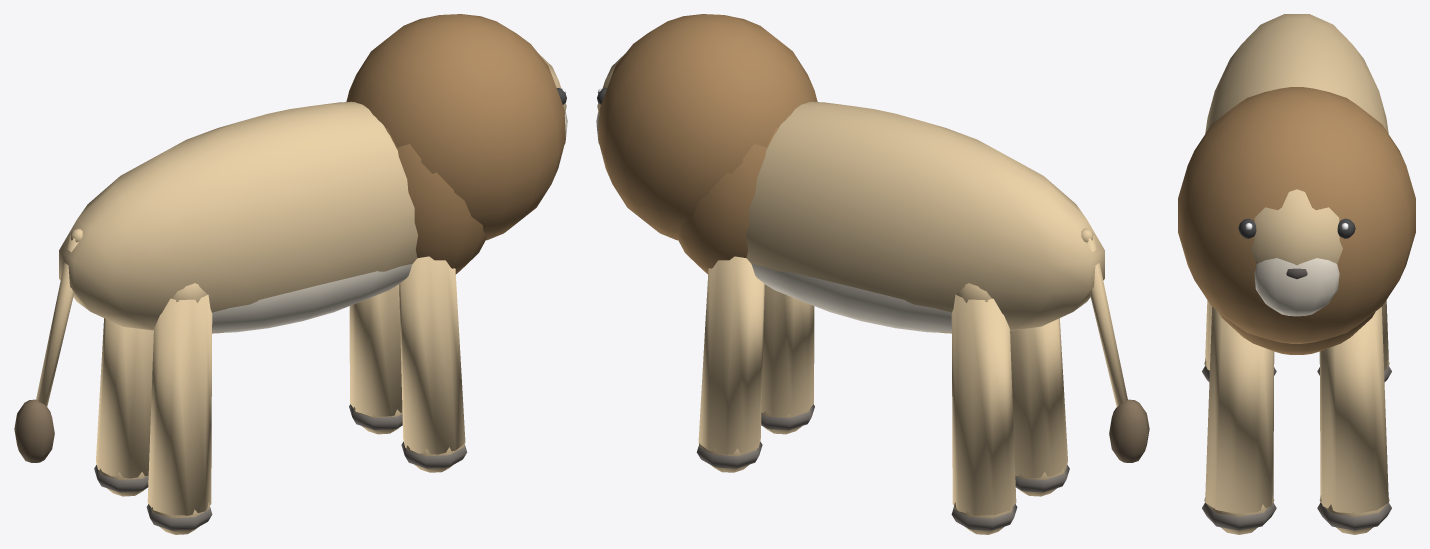
File: lion.glb
3 views of the same model, side by side, from view 1: azimuth 30°, elevation 25°; view 2: azimuth 150°, elevation 25°; view 3: azimuth 270°, elevation 25° (orthographic). The views are drawn at different scales.
Visible parts, largest first — view 1: e, e.016, e.027; view 2: e, e.016, e.027; view 3: e.016, e.
Part boxes in pixels (box(x1,y1,x2,y2)): e: box(59, 101, 486, 534); e.016: box(346, 14, 567, 240); e.027: box(14, 228, 82, 462); e: box(677, 101, 1104, 534); e.016: box(596, 14, 817, 240); e.027: box(1081, 228, 1149, 462); e.016: box(1178, 87, 1415, 343); e: box(1202, 14, 1391, 534).
Bounding box in the file's own units: 1.44 × 1.05 × 0.4949.
